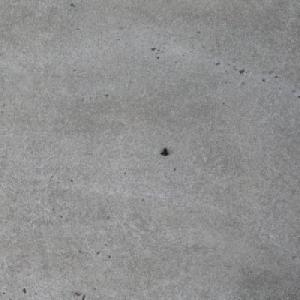BoltWasher: (159, 148, 168, 155)
